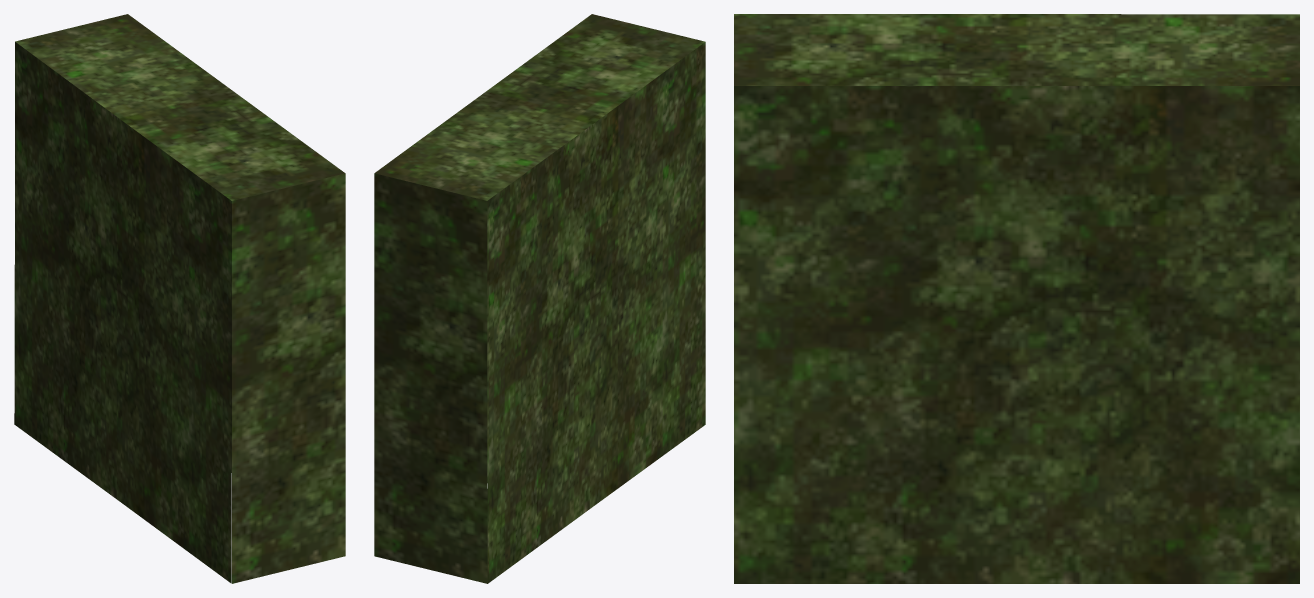
Rendered from OVERHILL_A_01_OBJECT241.fbx.
3 views of the same model, side by side, from view 1: azimuth 30°, elevation 25°; view 2: azimuth 150°, elevation 25°; view 3: azimuth 270°, elevation 25° (orthographic). The views are drawn at different scales.
Visible parts, largest first — view 1: OVERHILL_A_01_OBJECT241; view 2: OVERHILL_A_01_OBJECT241; view 3: OVERHILL_A_01_OBJECT241.
Part boxes in pixels (x1,y1,x2,y2): OVERHILL_A_01_OBJECT241: (14,14,345,583); OVERHILL_A_01_OBJECT241: (374,14,705,583); OVERHILL_A_01_OBJECT241: (734,14,1299,583).
Size of the model in its own units: 9965 by 32076 by 33047.
1 material, 1 textured.
